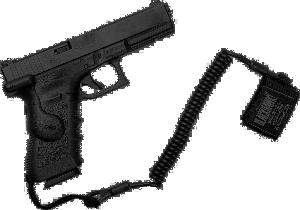handgun: (2, 4, 158, 182)
